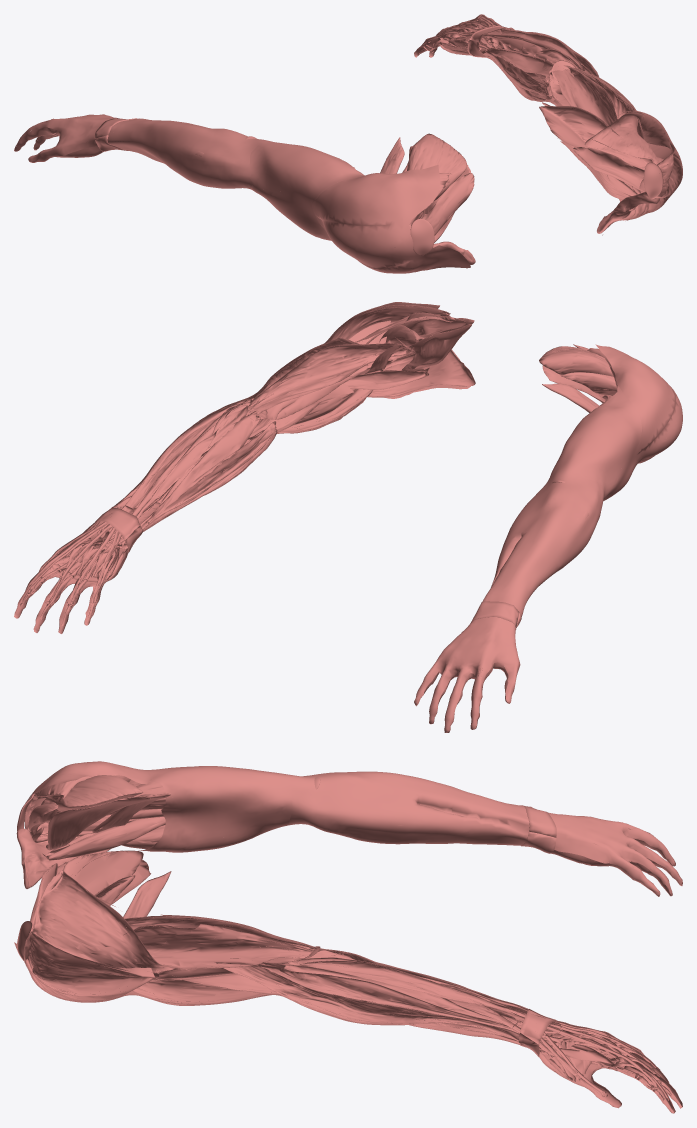
The model's file is upperlimb__muscular.7d839c34ec.glb.
The picture shows the model from 3 angles, top to bottom: view 1: azimuth 30°, elevation 25°; view 2: azimuth 150°, elevation 25°; view 3: azimuth 270°, elevation 25°; orthographic projection. The views are drawn at different scales.
Parts seen in each view (by area): view 1: Z00423, Z00101, Z00232, Z02013, Z00936, Z00490, Z01221, Z00939, Z02342, Z02345, Z00303, Z00594 (+11 smaller); view 2: Z00101, Z00490, Z00232, Z00423, Z01221, Z00594, Z02557, Z02013, Z00303, Z00832, Z02091, Z00939 (+15 smaller); view 3: Z00101, Z00232, Z02013, Z01088, Z00490, Z00244, Z00059, Z00594, Z00544, Z00936, Z01213, Z00939 (+23 smaller).
Part boxes in pixels (x1=…): Z00423: x1=312, y1=165, x2=470, y2=273; Z00101: x1=107, y1=118, x2=266, y2=189; Z00232: x1=250, y1=140, x2=364, y2=240; Z02013: x1=585, y1=112, x2=672, y2=164; Z00936: x1=539, y1=106, x2=652, y2=169; Z00490: x1=14, y1=114, x2=117, y2=161; Z01221: x1=551, y1=65, x2=617, y2=125; Z00939: x1=407, y1=133, x2=466, y2=225; Z02342: x1=573, y1=147, x2=668, y2=196; Z02345: x1=421, y1=173, x2=474, y2=235; Z00303: x1=597, y1=191, x2=665, y2=233; Z00594: x1=423, y1=15, x2=584, y2=71; Z00101: x1=483, y1=467, x2=604, y2=616; Z00490: x1=414, y1=617, x2=520, y2=732; Z00232: x1=550, y1=382, x2=641, y2=500; Z00423: x1=595, y1=344, x2=682, y2=463; Z01221: x1=248, y1=343, x2=414, y2=414; Z00594: x1=26, y1=403, x2=239, y2=603; Z02557: x1=146, y1=411, x2=260, y2=524; Z02013: x1=326, y1=305, x2=454, y2=344; Z00303: x1=368, y1=350, x2=475, y2=397; Z00832: x1=117, y1=422, x2=276, y2=549; Z02091: x1=277, y1=367, x2=429, y2=433; Z00939: x1=539, y1=346, x2=613, y2=376; Z00101: x1=289, y1=771, x2=529, y2=845; Z00232: x1=112, y1=766, x2=292, y2=852; Z02013: x1=32, y1=870, x2=175, y2=973; Z01088: x1=123, y1=924, x2=314, y2=969; Z00490: x1=549, y1=813, x2=682, y2=895; Z00244: x1=214, y1=962, x2=524, y2=1044; Z00059: x1=23, y1=931, x2=159, y2=996; Z00594: x1=299, y1=960, x2=659, y2=1086; Z00544: x1=257, y1=963, x2=563, y2=1043; Z00936: x1=52, y1=850, x2=143, y2=895; Z01213: x1=132, y1=977, x2=271, y2=1004; Z00939: x1=41, y1=775, x2=143, y2=811.
Size of the model in its own units: 650 by 208 by 704.
